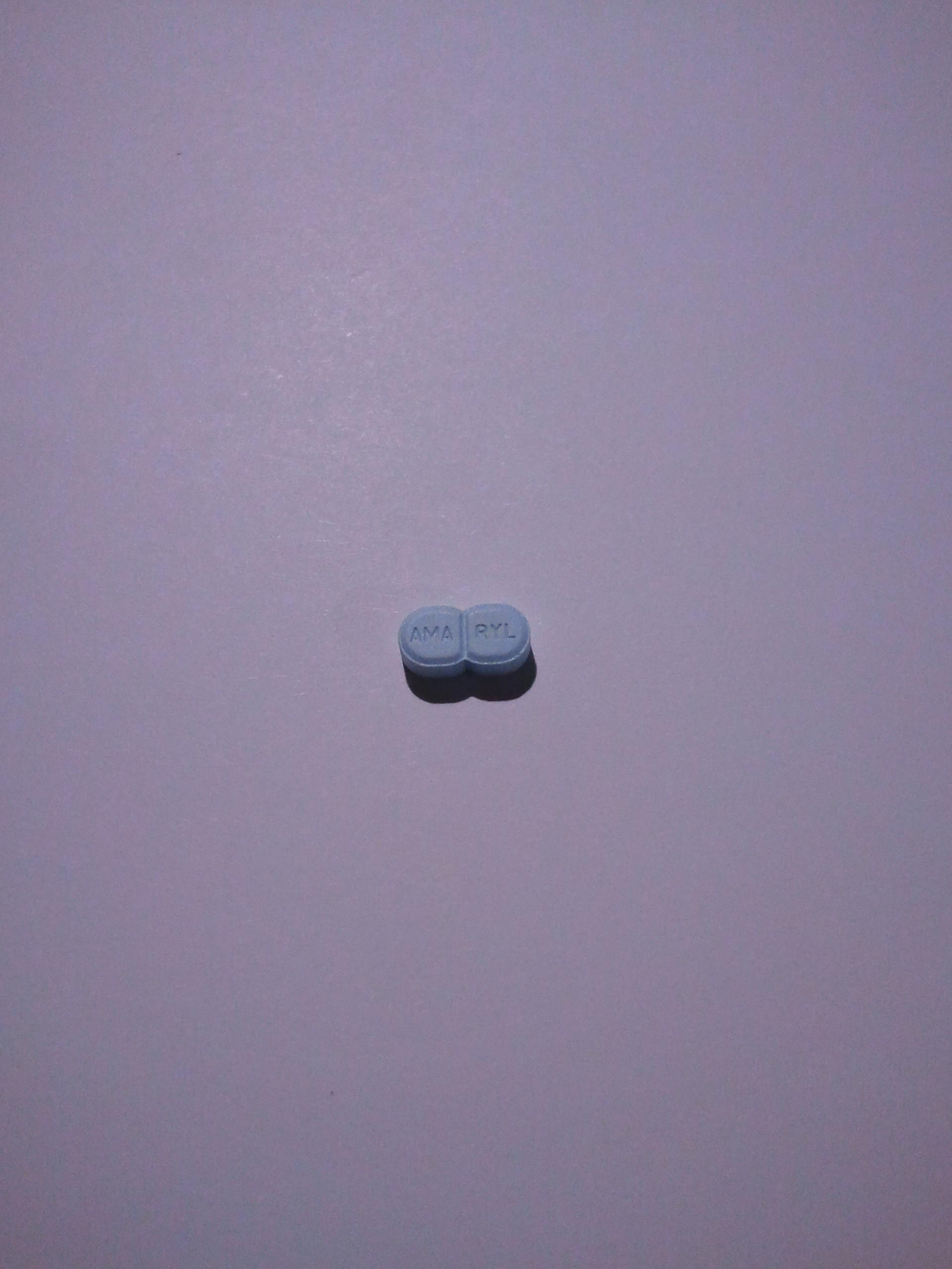Pill: (384, 600, 545, 704)
